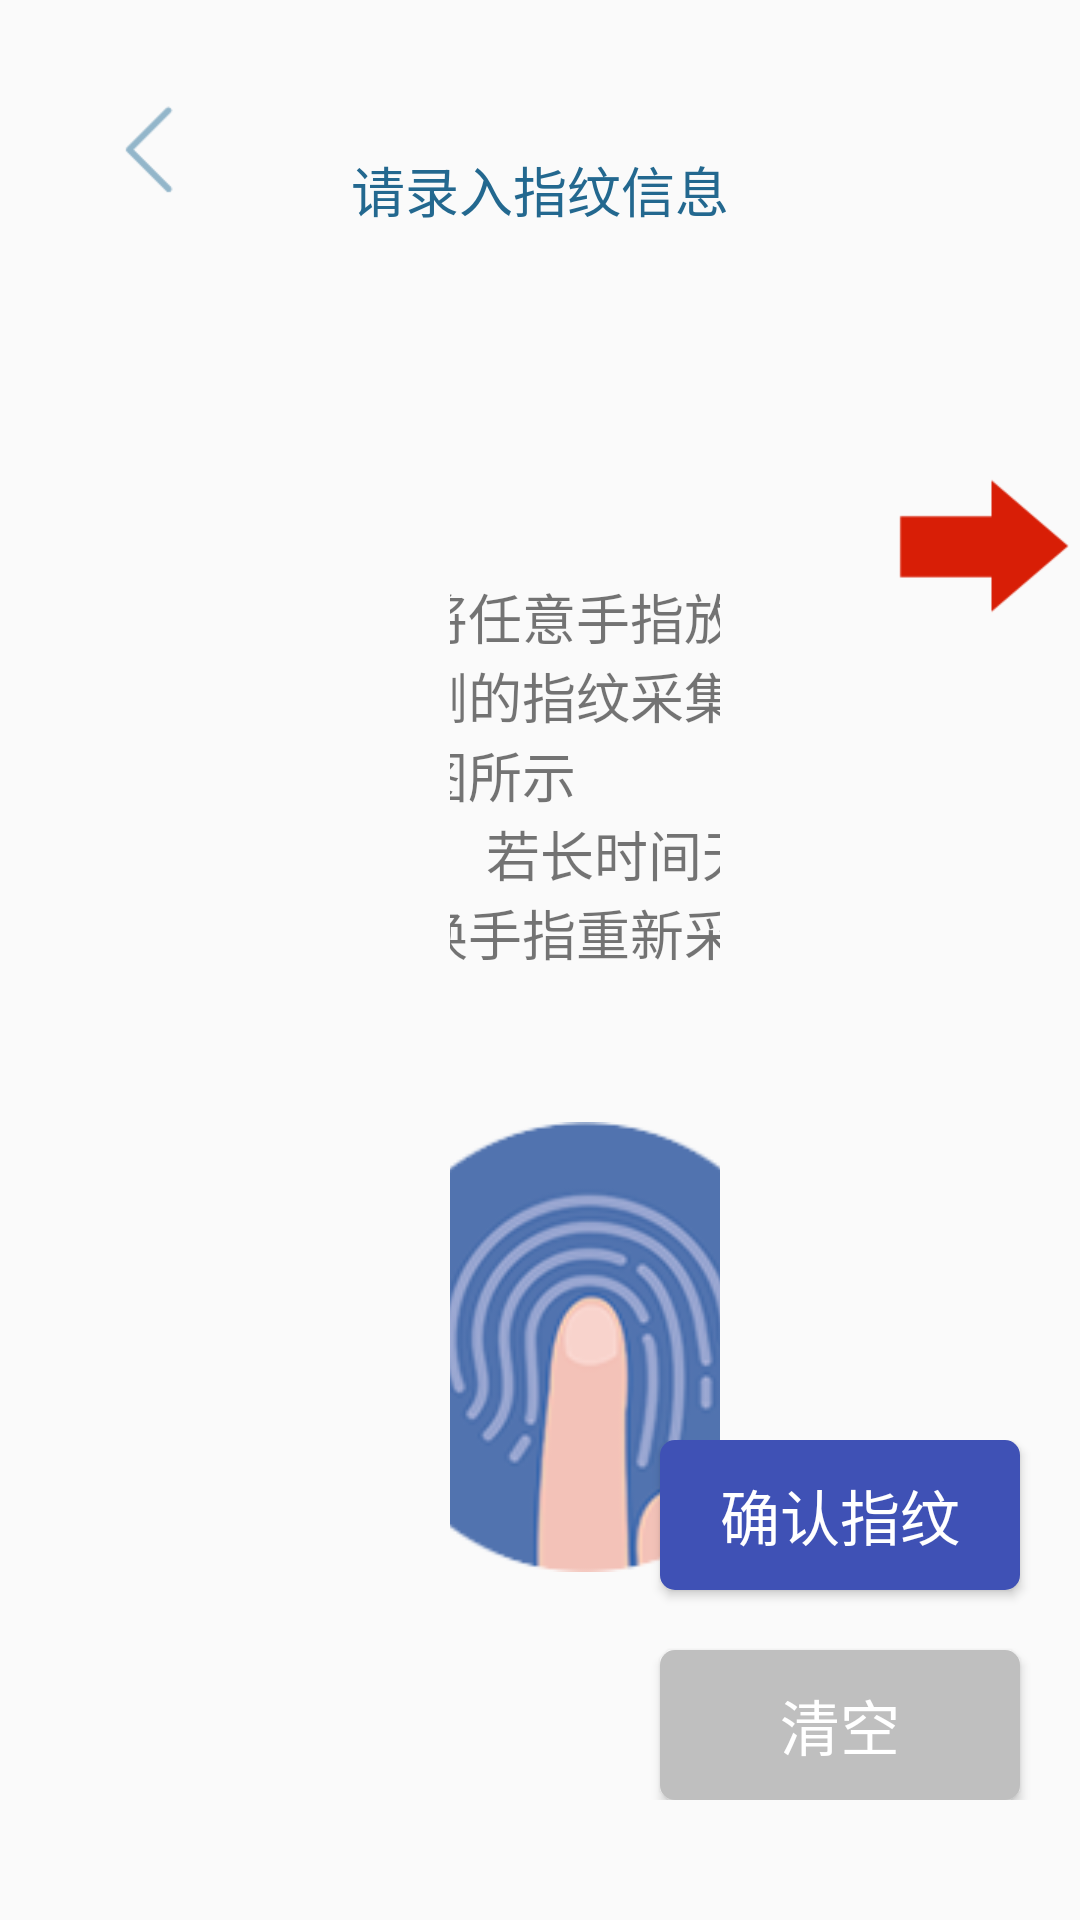

Icon click points for this 1080*1920 phone screenshot, format (x=x, y=y):
back: (x=149, y=149)
right arrow: (x=983, y=546)
